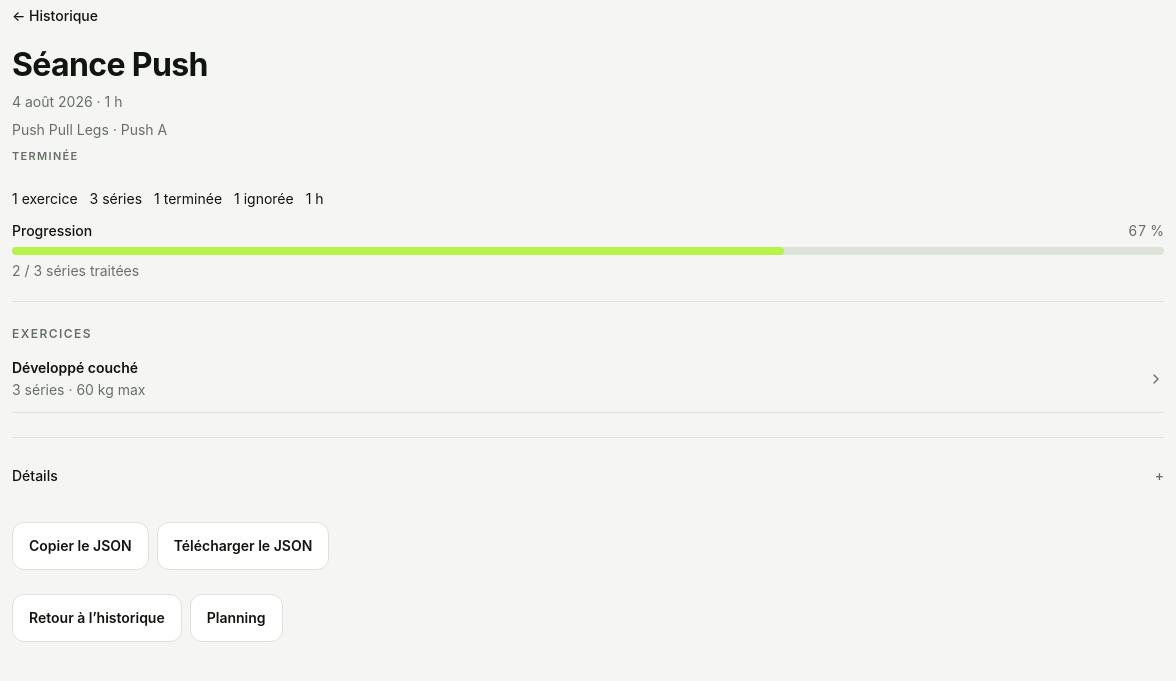
Scenario: WorkoutSessionDetailPage historique › affiche une séance terminée en lecture seule
This screenshot has width=1176, height=681.
Expected: the heading "Séance Push" is shown, [12,45,208,84]
Expected: the text "Terminée" is shown, [12,149,78,163]
Click the button "Développé couché 3 séries · 60 kg max": (75, 367) [12,346,1164,412]
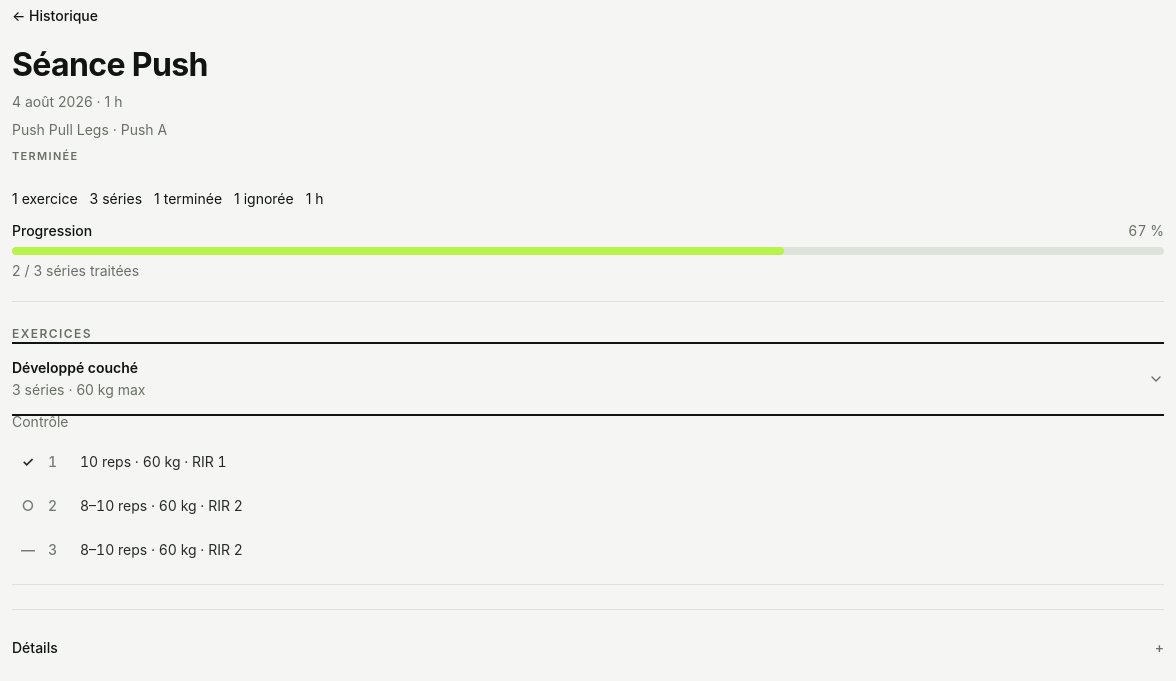
Now the button with aria-label "Non réalisée" is shown, box [12,484,1164,528]
Click the button "Détails +": (35, 647) [12,626,1164,670]
(page scrolled)
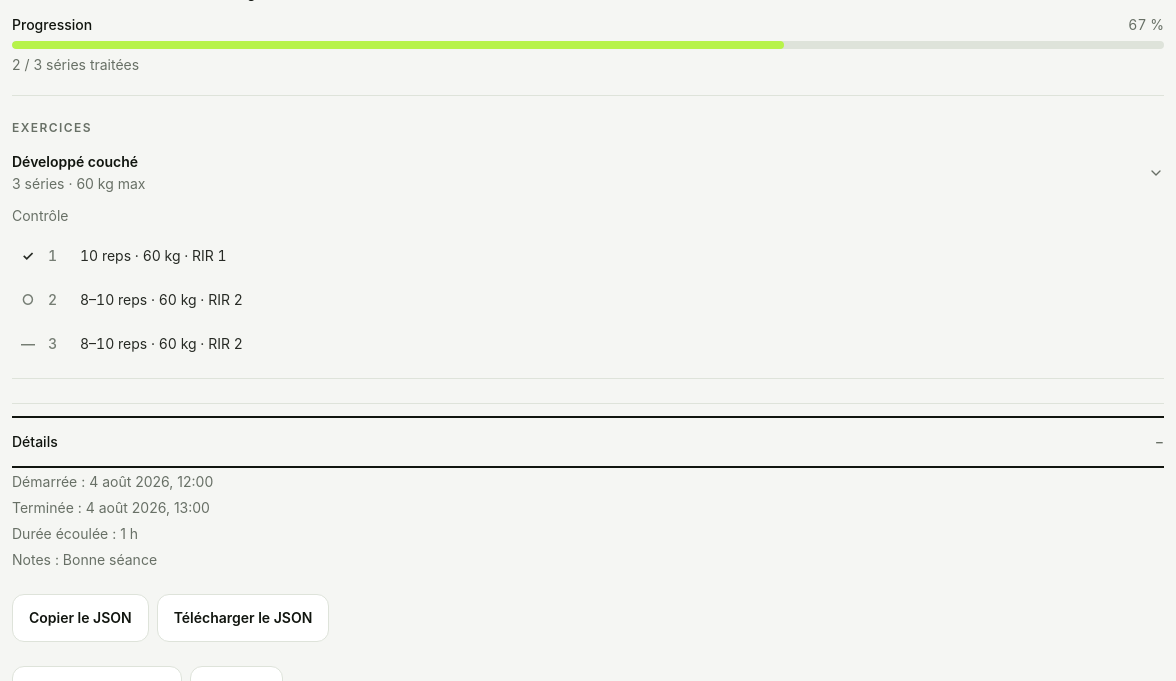
Now the text "Notes :" is shown, box [12,551,63,568]
Now the text "Bonne séance" is shown, box [63,551,157,568]
Now the text "Durée écoulée :" is shown, box [12,525,120,542]
